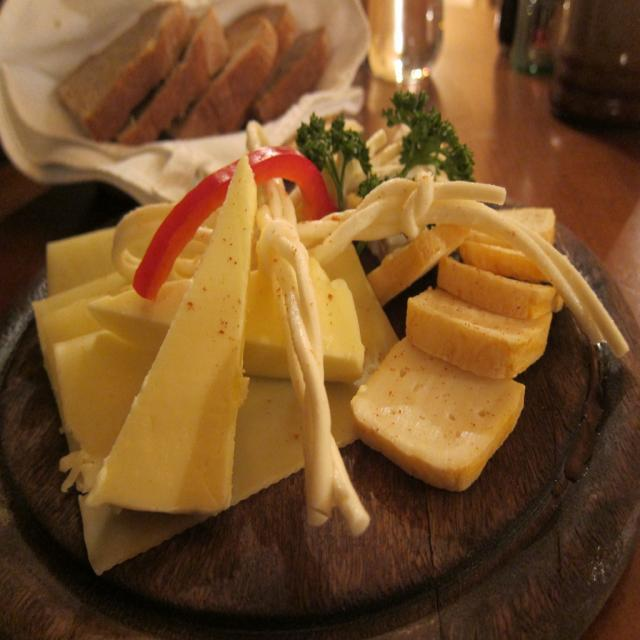Cheese: (29, 167, 400, 571), (352, 339, 535, 490)
